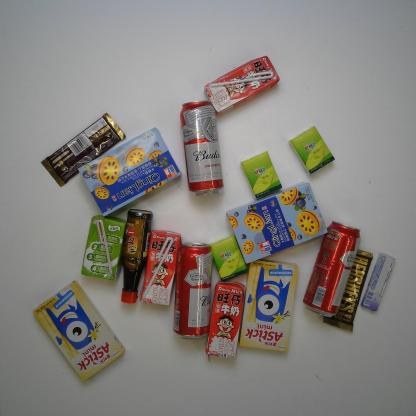Alcohol: (298, 217, 364, 322), (176, 96, 225, 200), (171, 238, 215, 345)
Candy: (358, 250, 399, 314)
Chocolate: (39, 110, 128, 189), (320, 246, 375, 335)
Dessert: (30, 276, 126, 384), (74, 124, 183, 219), (223, 180, 331, 266), (235, 256, 301, 356)
Milk: (200, 52, 281, 119), (202, 278, 247, 366), (137, 227, 183, 308), (79, 212, 129, 284)
Seasoner: (116, 207, 156, 308)
Tissue: (286, 122, 337, 179), (238, 148, 285, 202), (207, 233, 251, 285)
